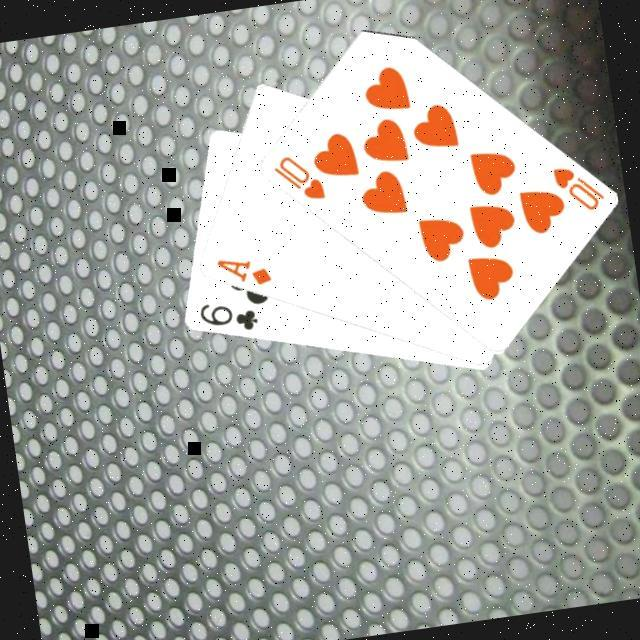10H: (268, 149, 329, 210), (548, 159, 609, 220)
6C: (194, 296, 261, 342)
AD: (210, 250, 275, 296)
